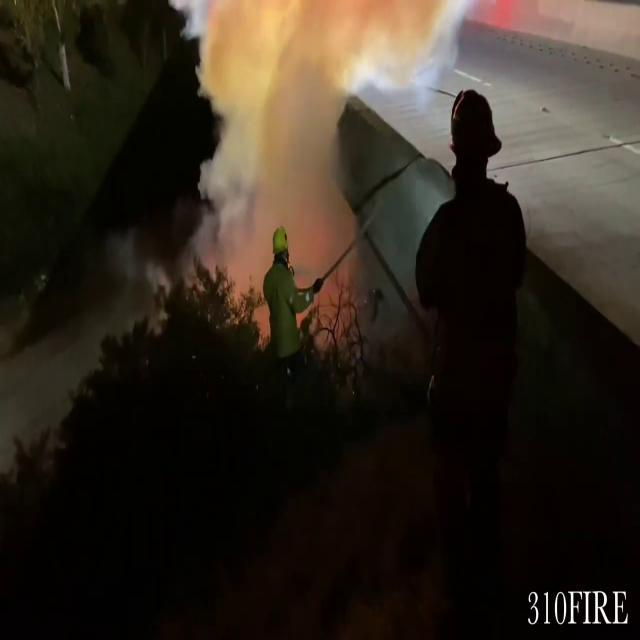Smoke: (147, 1, 450, 302)
